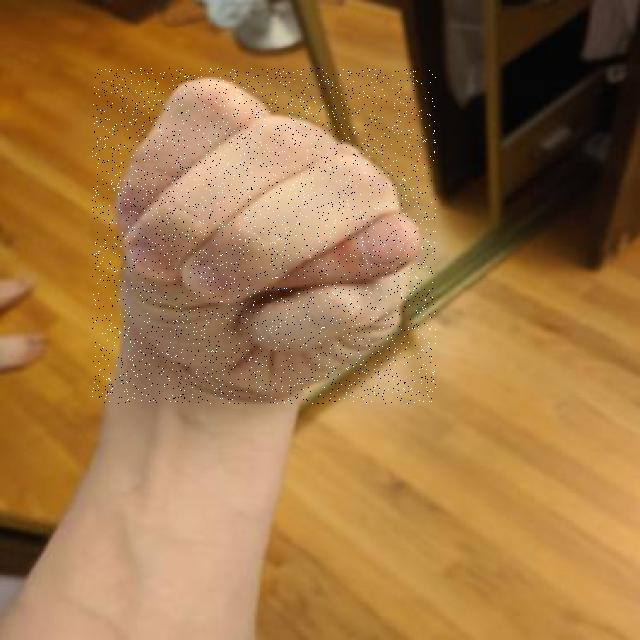M: (92, 68, 436, 404)
